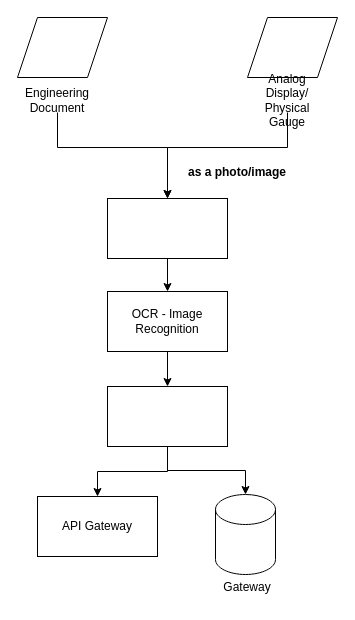
Some shapes in this 355 by 620 pixel diagram are drawn without their labels. The centre of each missing label's shape, as x and y in pixels:
OCR - Data Acquisition: pixel 167 228
OCR - parse into Desired text format output: pixel 167 416
